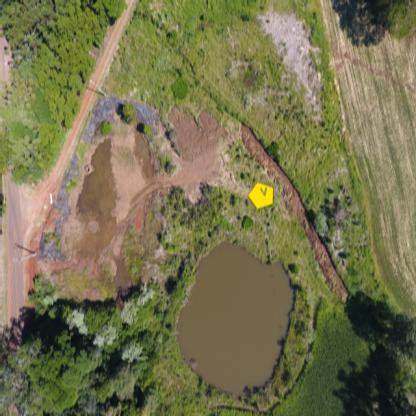V: (258, 186, 268, 197)
pentagon: (249, 181, 274, 210)
